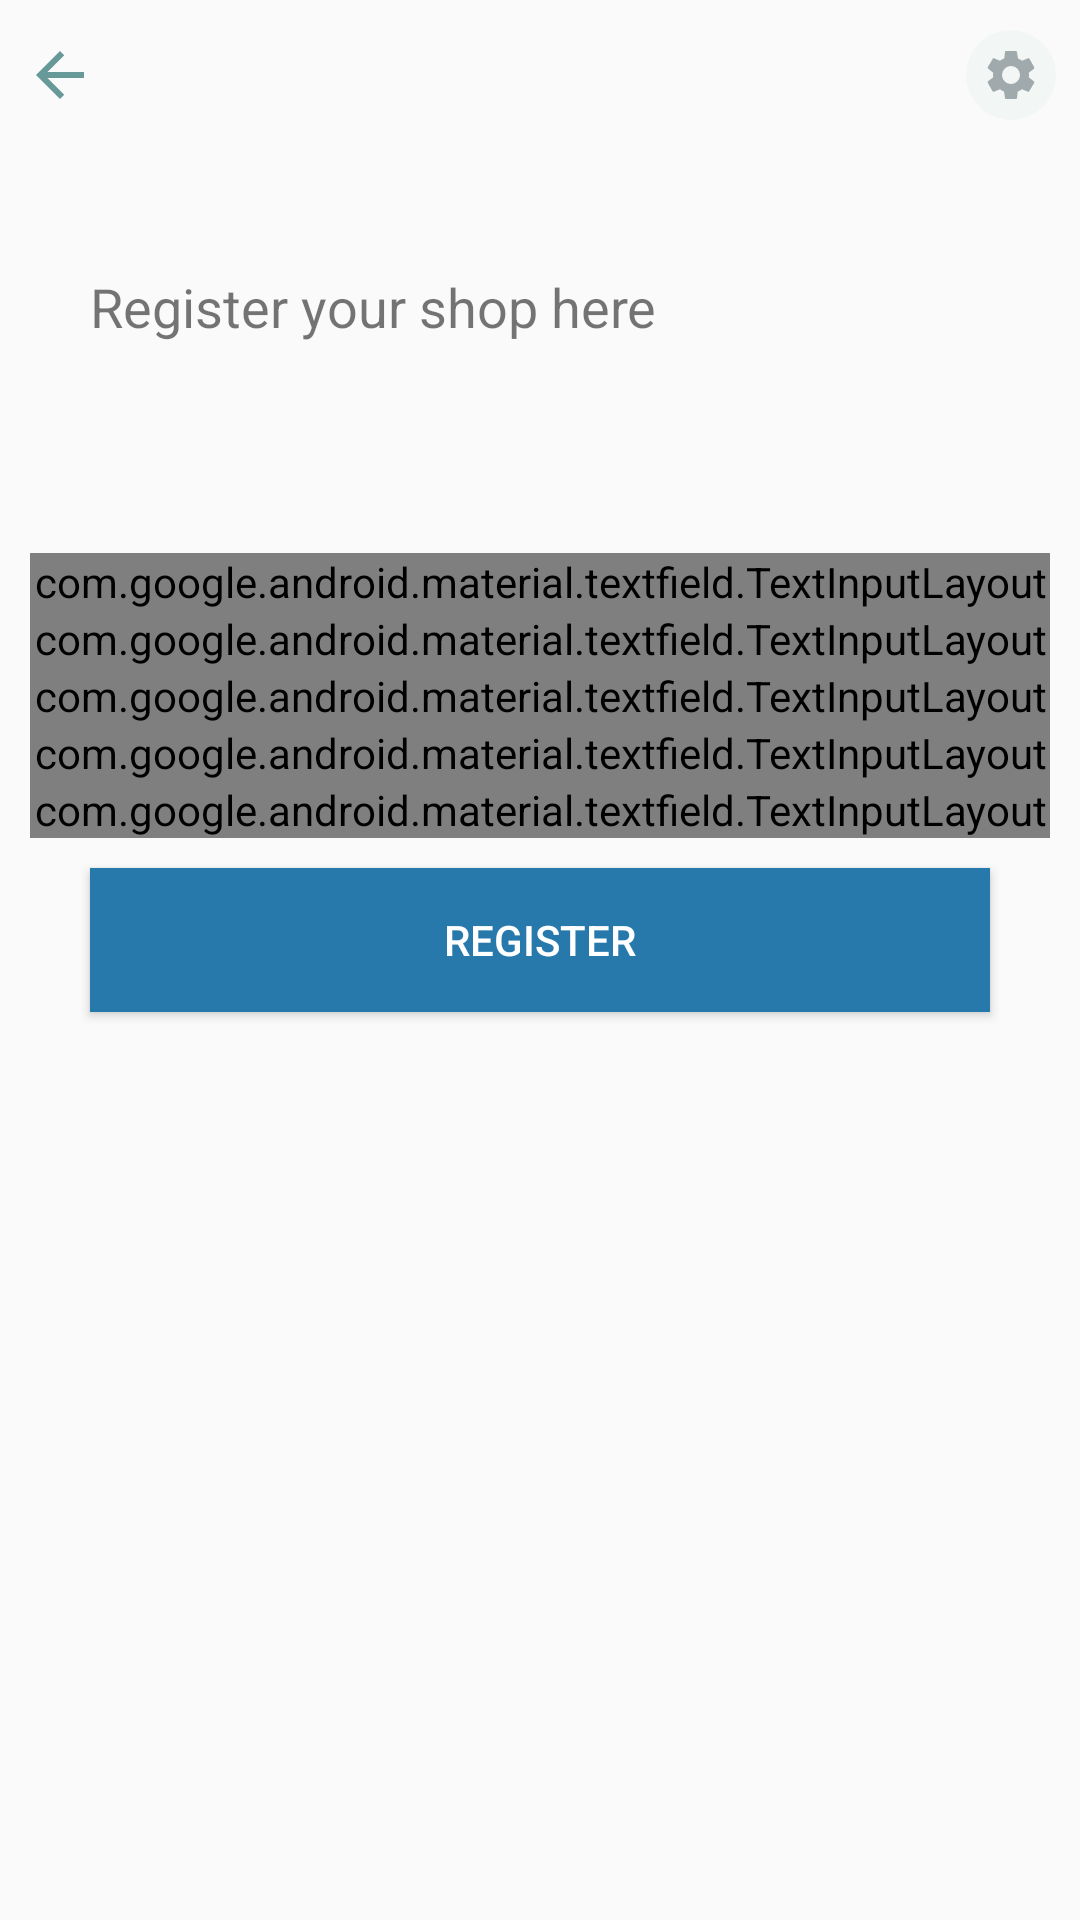

Point at icon controls on the screen. Image size 1080*1920, points as (x=x, y=y).
settings: (x=1011, y=75)
